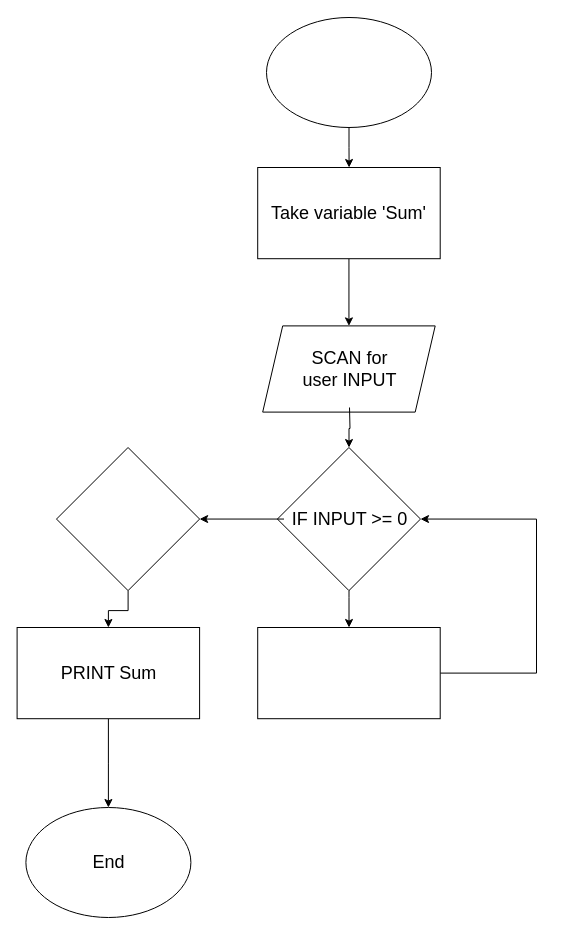
Some shapes in this 563 by 935 pixel diagram are drawn without their labels. The centre of each missing label's shape, as x and y in pixels:
"Add to Sum" goes at point (348, 672).
"IF INPUT < 0" goes at point (128, 518).
"Start" goes at point (349, 72).
